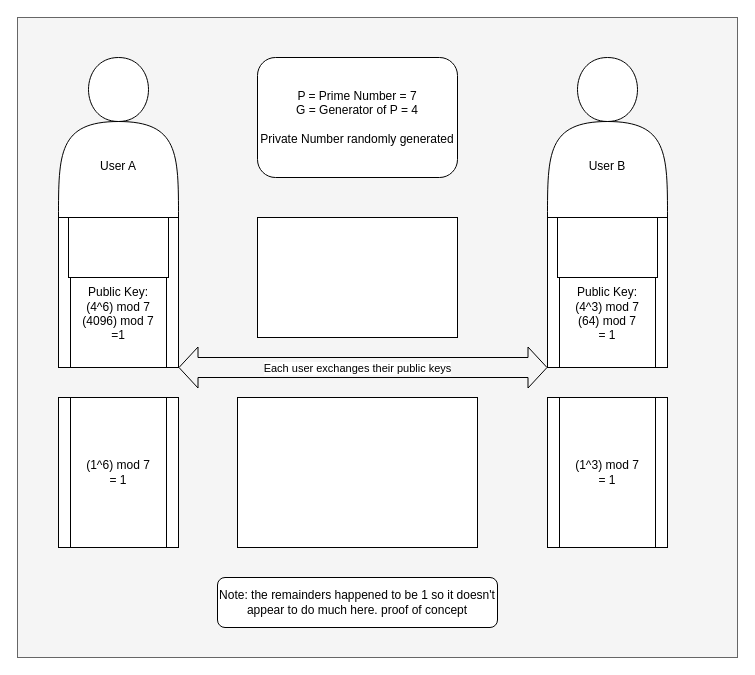
This 755x675 diagram has some shape labels left out. The centre of each missing label's shape, as x and y in pixels:
"Private # = 3" goes at [607,247].
"Private # = 6" goes at [118,247].
"Public Key: (G^private) mod P" goes at [357,277].
"Secret message: (exchanged^private) mod P" goes at [357,472].
